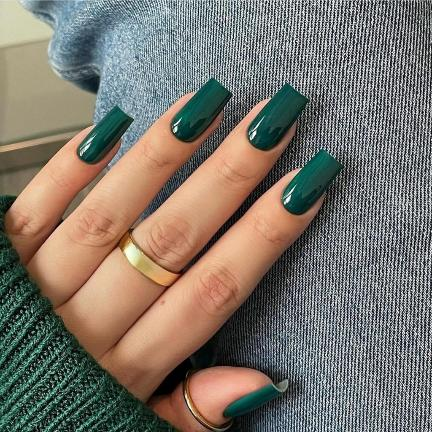Nail: (247, 83, 309, 151), (170, 77, 233, 143), (281, 148, 343, 215), (77, 105, 134, 164), (223, 383, 284, 419), (184, 391, 195, 414)
